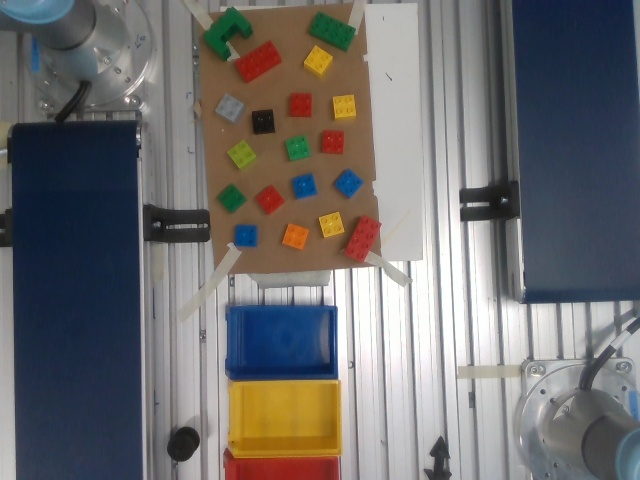duplo_4_blue: (333, 169, 365, 198), (293, 168, 316, 202), (233, 224, 258, 247)
duplo_4_red: (255, 181, 285, 216), (317, 129, 348, 156), (289, 92, 312, 119)
duplo_4_yellow: (298, 44, 336, 77), (313, 208, 346, 239), (330, 92, 360, 123)
ignore: (200, 7, 255, 60), (231, 38, 287, 83), (306, 9, 364, 51), (343, 216, 387, 265), (213, 91, 250, 124), (216, 179, 247, 218), (227, 137, 257, 172), (249, 105, 278, 138), (280, 222, 309, 250), (287, 131, 309, 164)
